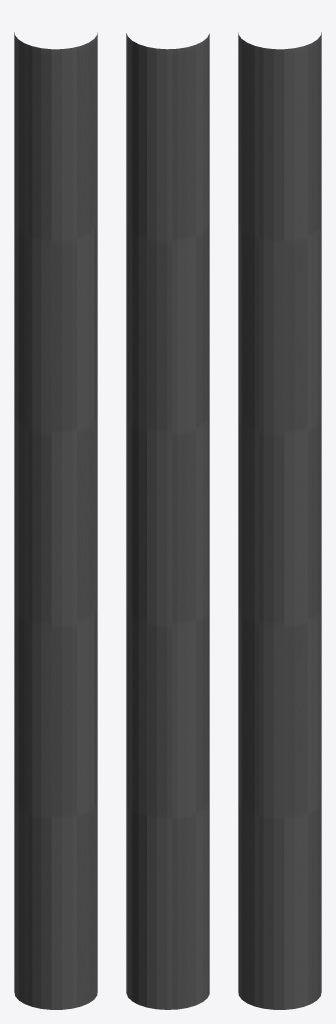
The model's file is SM_Pillar.glb.
3 views of the same model, side by side, from view 1: azimuth 30°, elevation 25°; view 2: azimuth 150°, elevation 25°; view 3: azimuth 330°, elevation 25° (orthographic).
Visible parts, largest first — view 1: SM_Pillar; view 2: SM_Pillar; view 3: SM_Pillar.
Boxes of the visible parts, left/top/right/bottom form: SM_Pillar: left=14, top=32, right=97, bottom=1009; SM_Pillar: left=126, top=33, right=209, bottom=1009; SM_Pillar: left=238, top=32, right=321, bottom=1009.
Size of the model in its own units: 40.78 by 518 by 40.7.
Materials: 1 (1 with a texture image).
